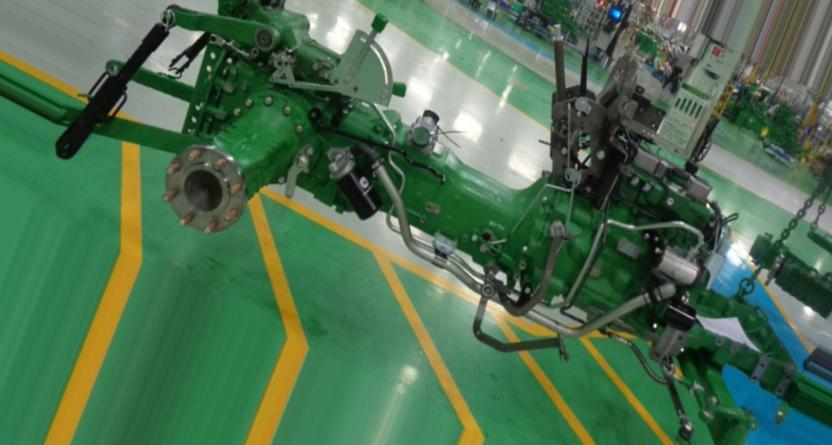engine: (59, 0, 831, 436)
